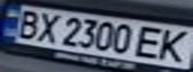0: (112, 20, 139, 56), (93, 19, 115, 53)
2: (57, 14, 84, 48)
3: (75, 16, 100, 51)
B: (9, 7, 45, 39)
E: (133, 24, 172, 60)
K: (151, 27, 193, 64)
X: (30, 10, 63, 44)
